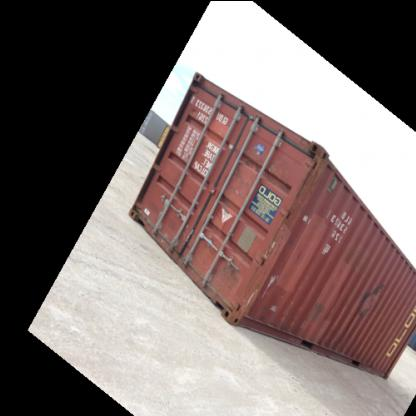Damage: (286, 154, 326, 204), (352, 276, 390, 314), (302, 294, 329, 326), (219, 252, 244, 285), (230, 152, 256, 178), (338, 236, 356, 264), (252, 298, 270, 326)
